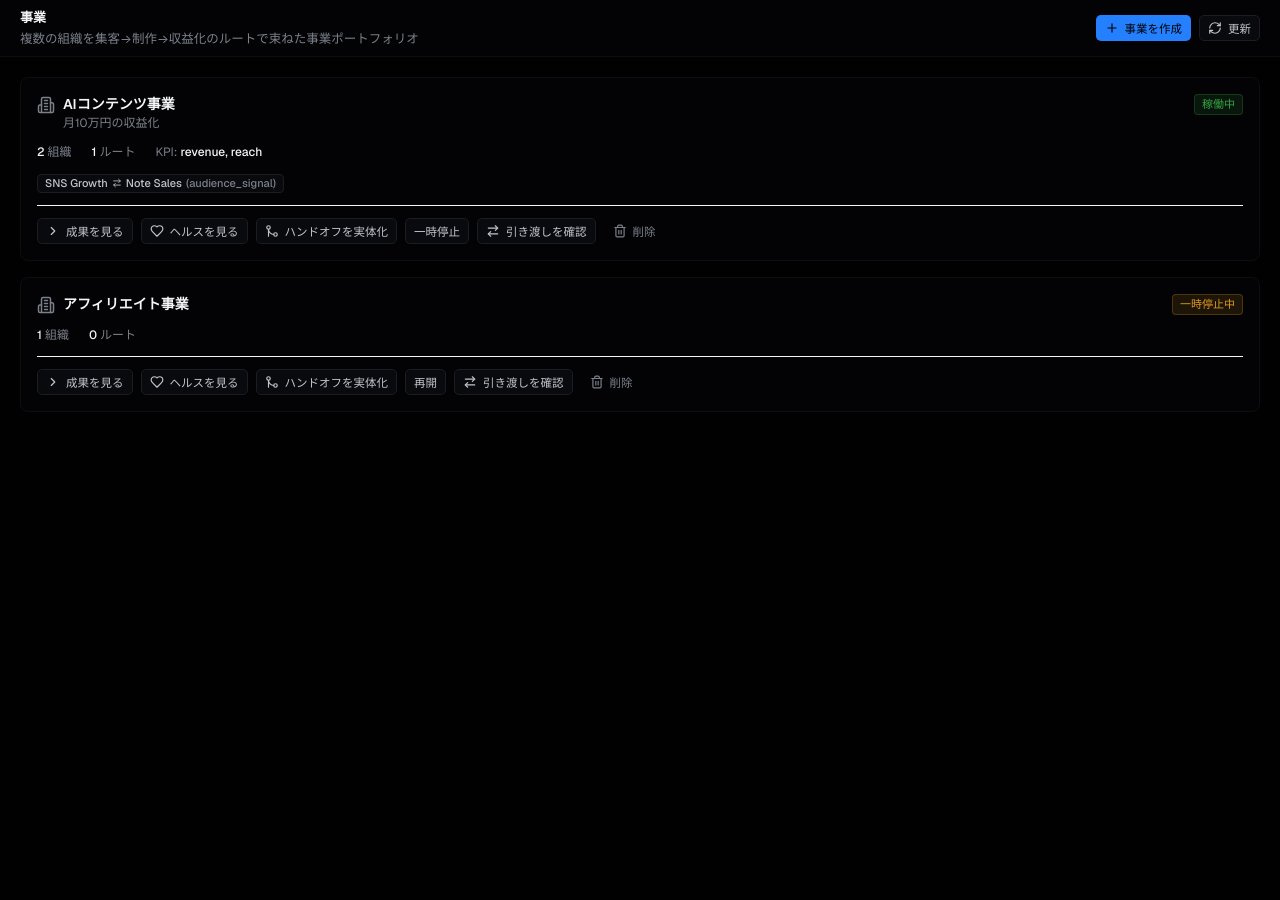
Test: 「事業を作成」ボタンでフォームが開く
Expected: the text "AIコンテンツ事業" is shown, top-left (63, 94), bottom-right (175, 115)
What coordinates should you click on to do the following:
click the button "事業を作成"
I would click on:
 (1143, 28)
Its box is top-left (1096, 15), bottom-right (1191, 41).
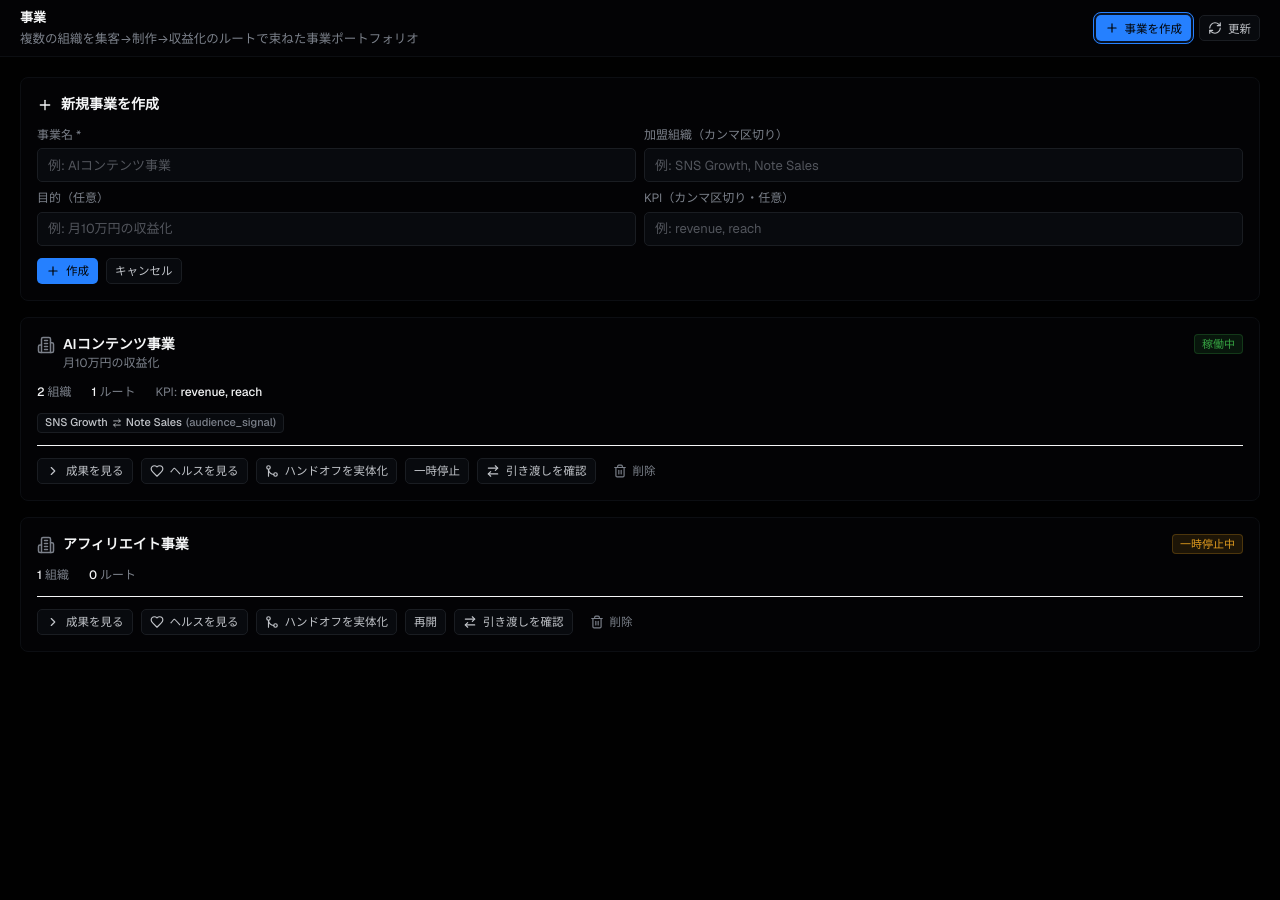
Now the text "新規事業を作成" is shown, box top-left (37, 95), bottom-right (159, 113)
